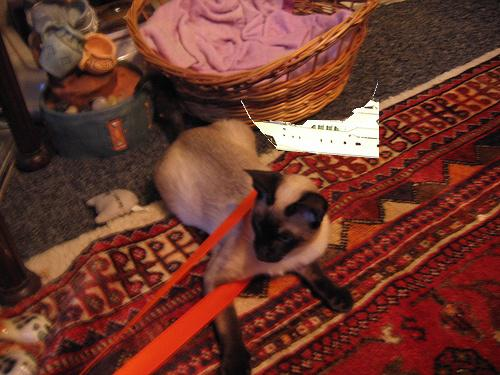tampered: (241, 81, 379, 158)
